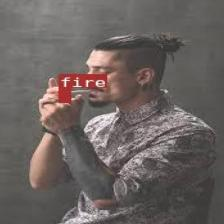fire: (58, 88, 69, 102)
